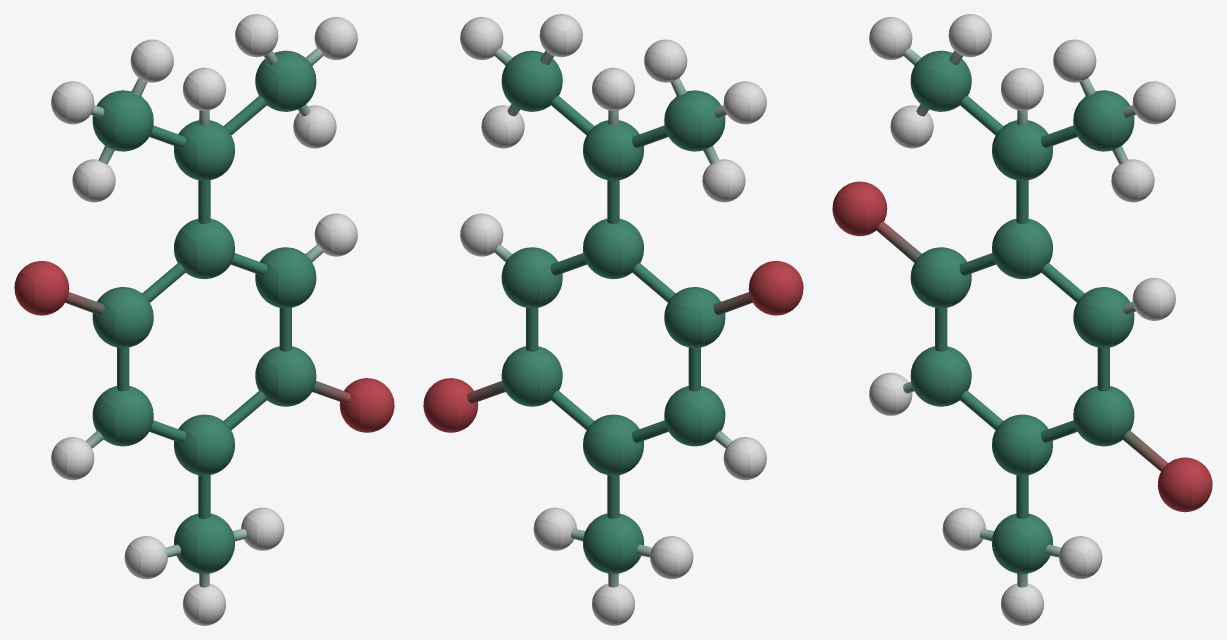
Rendered from P-cymene.fbx.
The picture shows the model from 3 angles, left to right: view 1: azimuth 30°, elevation 25°; view 2: azimuth 150°, elevation 25°; view 3: azimuth 330°, elevation 25°; orthographic projection.
Visible parts, largest first — view 1: curMeshHyperballExportedMesh; view 2: curMeshHyperballExportedMesh; view 3: curMeshHyperballExportedMesh.
Boxes of the visible parts, x1,y1,x2,y2 form: curMeshHyperballExportedMesh: (14,14,394,625); curMeshHyperballExportedMesh: (423,14,803,625); curMeshHyperballExportedMesh: (832,14,1212,625).
Size of the model in its own units: 3.97 by 6.06 by 0.5667.
